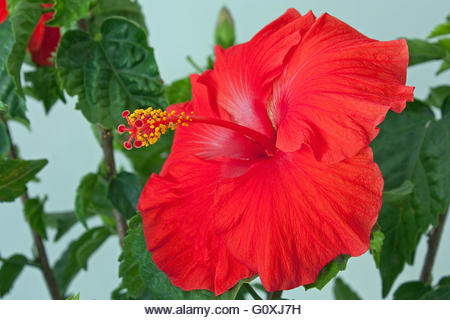Hibiscus: (112, 1, 403, 289)
